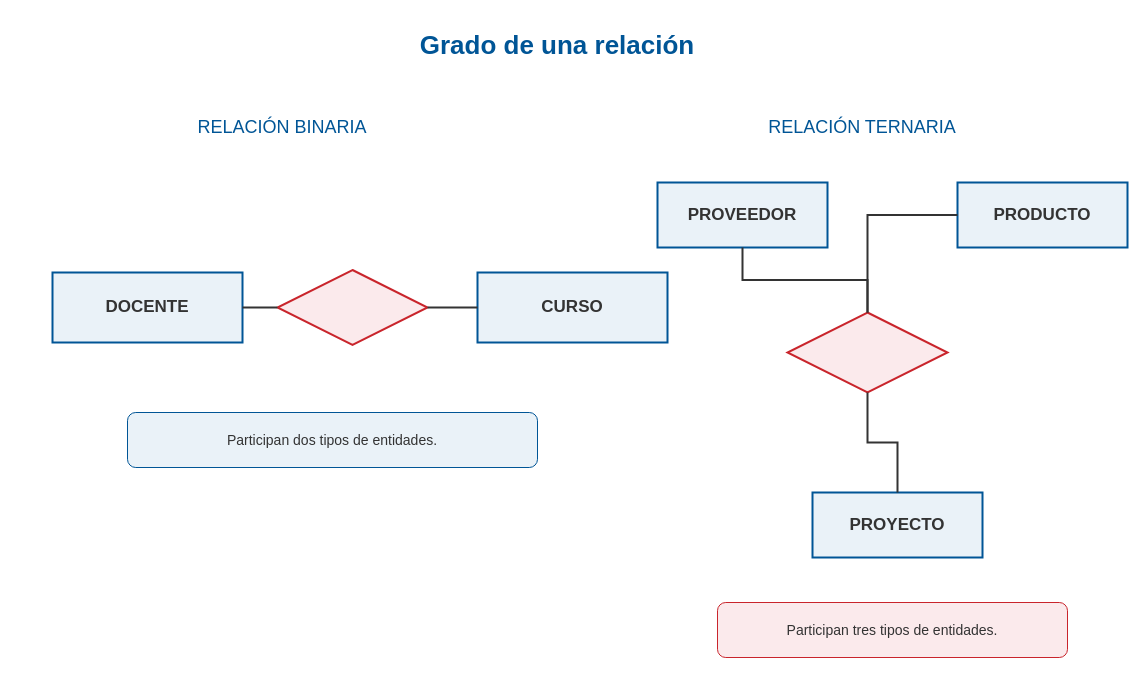
Some shapes in this 1145 by 675 pixel diagram are drawn without their labels. Each missing label, with the centre of its shape:
"ENSEÑA" belongs at (352,307).
"SUMINISTRA" belongs at (867,352).
